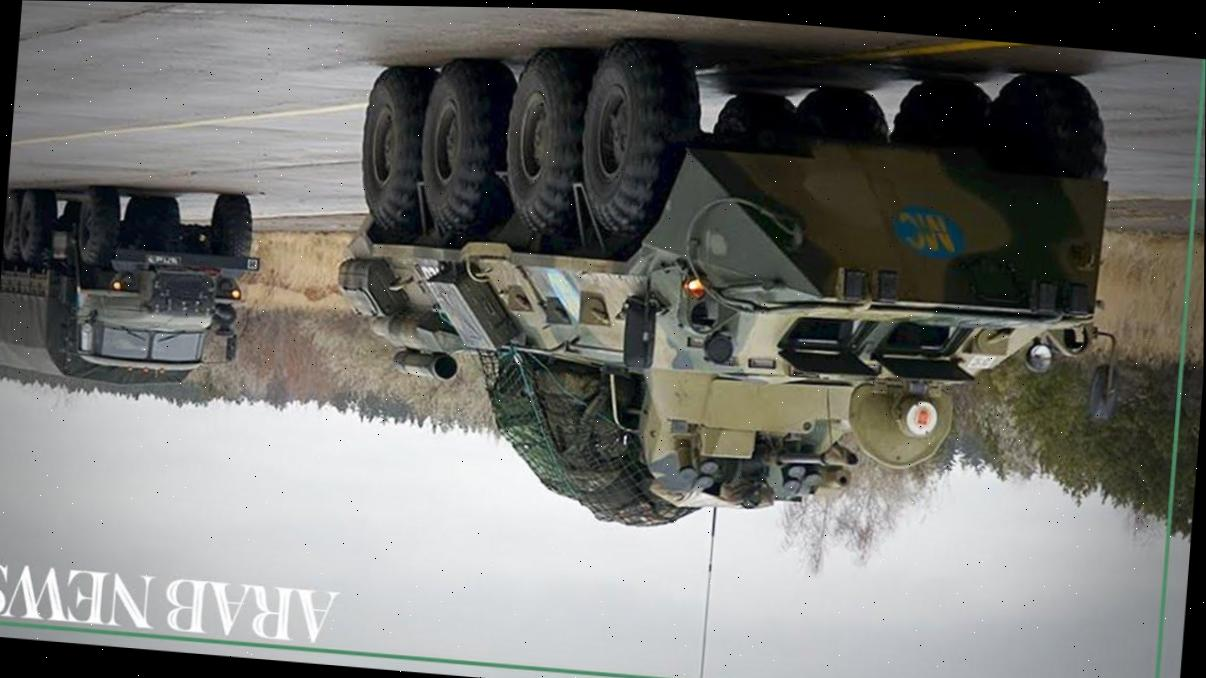tank: (320, 14, 1145, 567)
truck: (0, 174, 266, 398)
